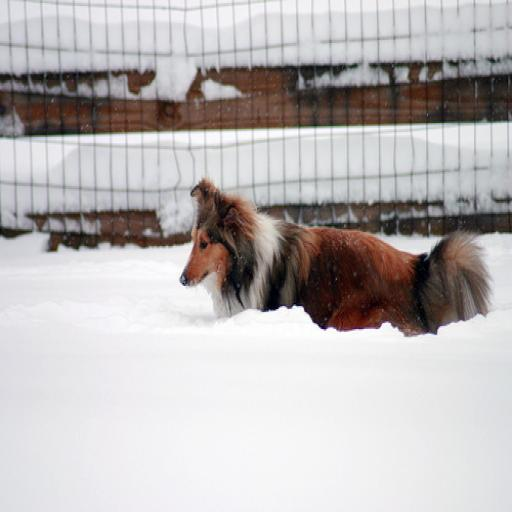dog_face: (173, 176, 238, 298)
